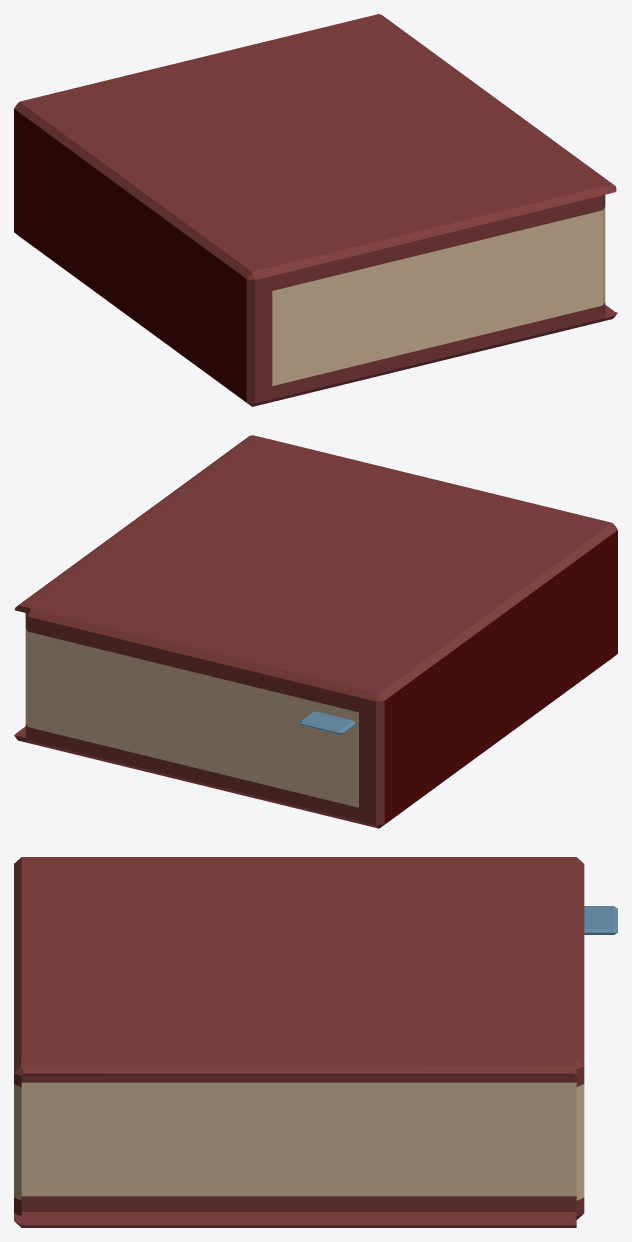
The model's file is book.fbx.
3 views of the same model, one above another, from view 1: azimuth 30°, elevation 25°; view 2: azimuth 150°, elevation 25°; view 3: azimuth 270°, elevation 25° (orthographic). The views are drawn at different scales.
Parts seen in each view (by area): view 1: pCube1; view 2: pCube1, pCube2; view 3: pCube1, pCube2.
Boxes of the visible parts, x1,y1,x2,y2 form: pCube1: [14, 14, 617, 406]; pCube1: [14, 435, 617, 828]; pCube2: [300, 711, 355, 734]; pCube1: [14, 857, 584, 1227]; pCube2: [584, 906, 617, 934].
Size of the model in its own units: 2.87 by 1 by 3.4.
